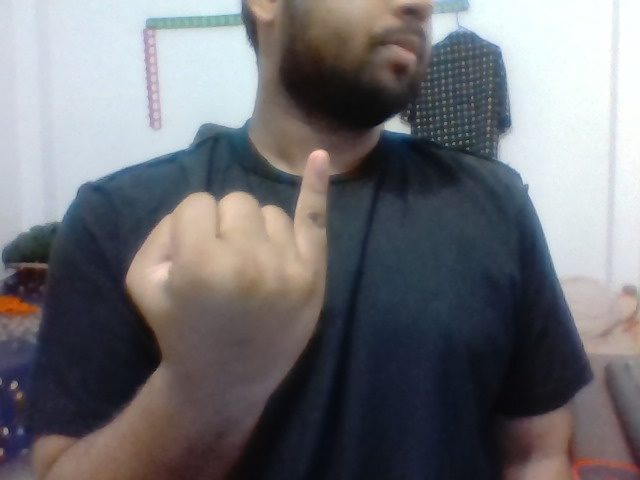I: (113, 148, 356, 379)
